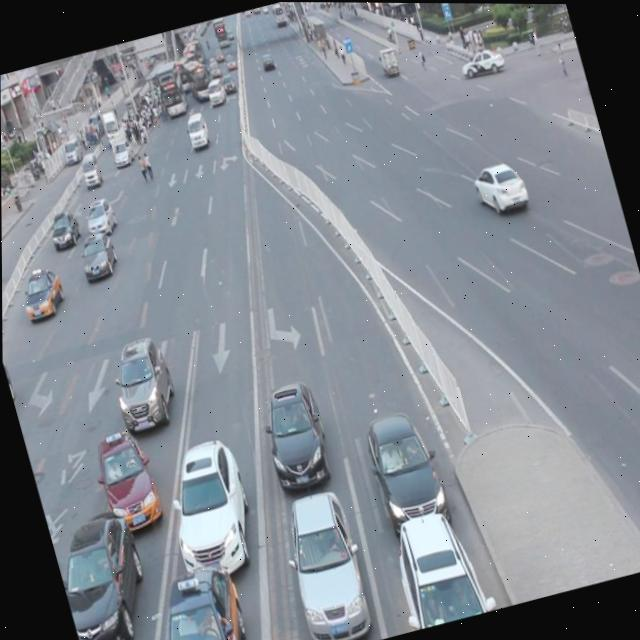car: (150, 428, 265, 585), (272, 482, 378, 640), (46, 502, 162, 640), (381, 498, 491, 630), (357, 399, 452, 535), (251, 373, 338, 494), (132, 557, 258, 640), (100, 328, 183, 434), (87, 422, 165, 534), (467, 154, 529, 217), (15, 264, 69, 325), (73, 226, 122, 282), (79, 193, 119, 238), (46, 204, 83, 249)
